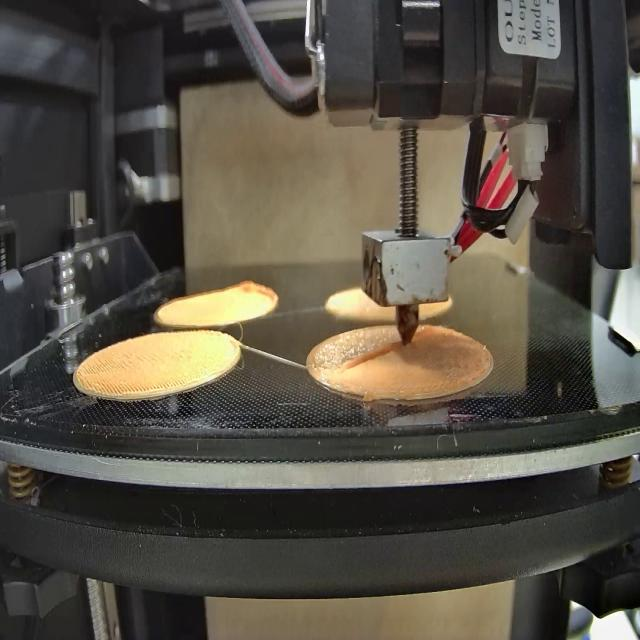over_extrusion: (332, 339, 400, 379), (233, 274, 280, 319)
